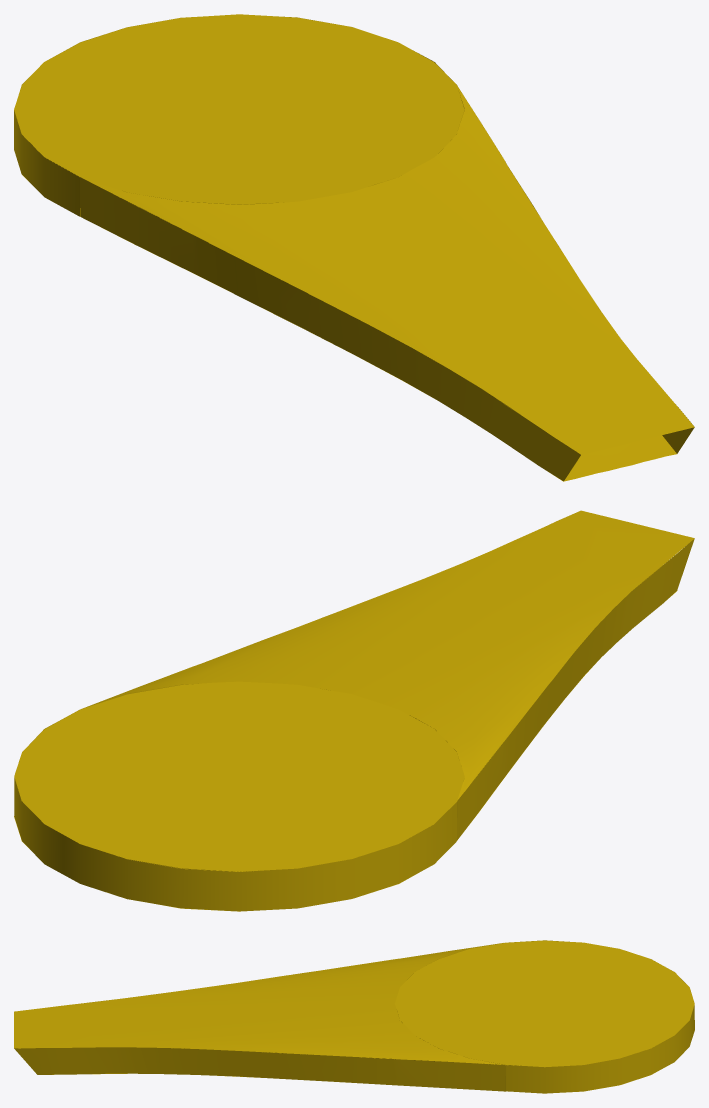
File: original-15.obj
The picture shows the model from 3 angles, top to bottom: view 1: azimuth 30°, elevation 25°; view 2: azimuth 150°, elevation 25°; view 3: azimuth 270°, elevation 25°; orthographic projection. The views are drawn at different scales.
Visible parts, largest first — view 1: group_14/ID104#ID104; view 2: group_14/ID104#ID104; view 3: group_14/ID104#ID104.
Boxes of the visible parts, x1,y1,x2,y2 form: group_14/ID104#ID104: (14,14,694,481); group_14/ID104#ID104: (14,510,694,911); group_14/ID104#ID104: (14,940,694,1093).
Bounding box in the file's own units: 0.1694 × 0.033 × 0.3845.
